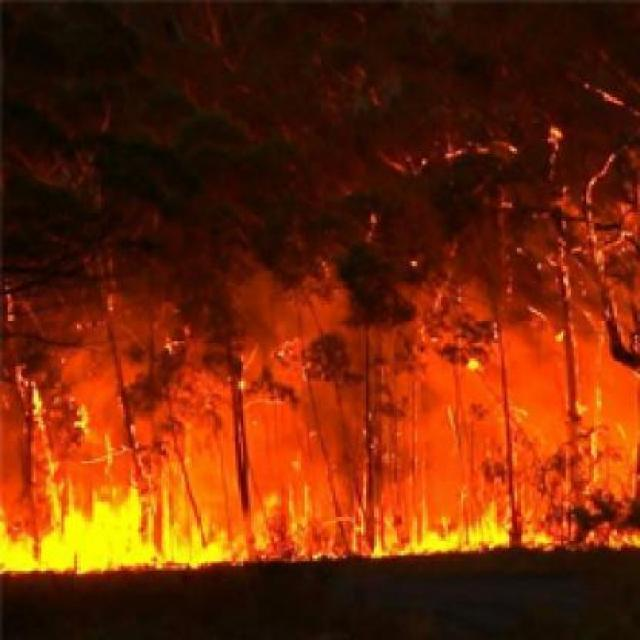Fire: (0, 445, 629, 617), (338, 476, 630, 576)
